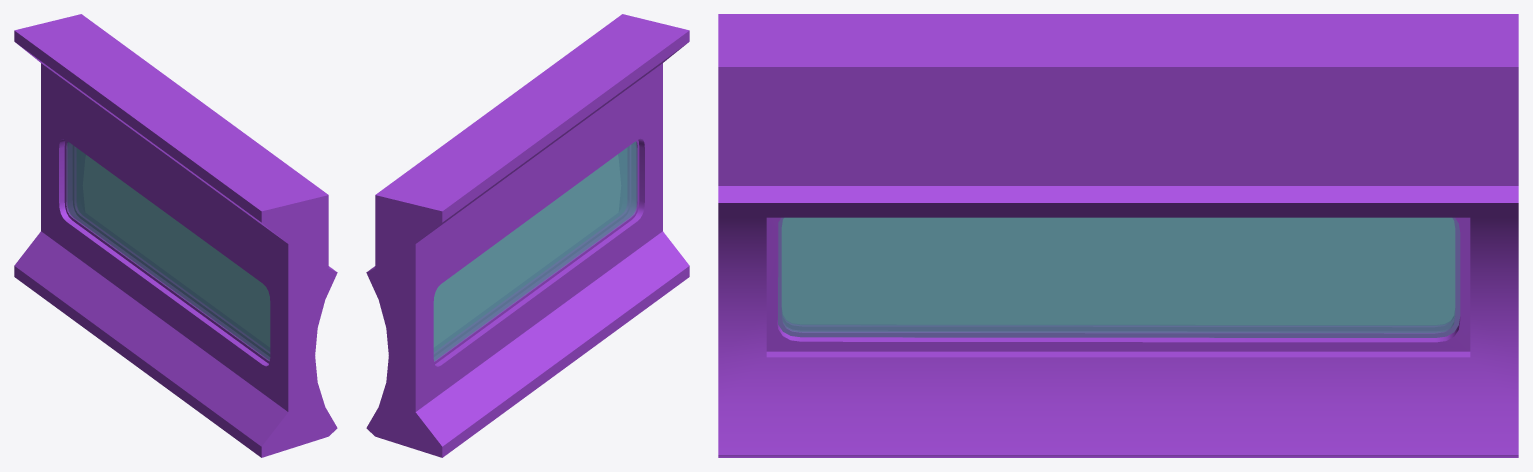
File: RoundCorr_Wall_Win_B.FBX
The picture shows the model from 3 angles, left to right: view 1: azimuth 30°, elevation 25°; view 2: azimuth 150°, elevation 25°; view 3: azimuth 270°, elevation 25°; orthographic projection. The views are drawn at different scales.
Visible parts, largest first — view 1: RoundCorr_Wall_Win_B; view 2: RoundCorr_Wall_Win_B; view 3: RoundCorr_Wall_Win_B.
Boxes of the visible parts, bbox=[...] form: RoundCorr_Wall_Win_B: bbox=[14, 14, 337, 457]; RoundCorr_Wall_Win_B: bbox=[366, 14, 689, 457]; RoundCorr_Wall_Win_B: bbox=[718, 14, 1518, 457].
Bounding box in the file's own units: 142 × 440 × 800.
